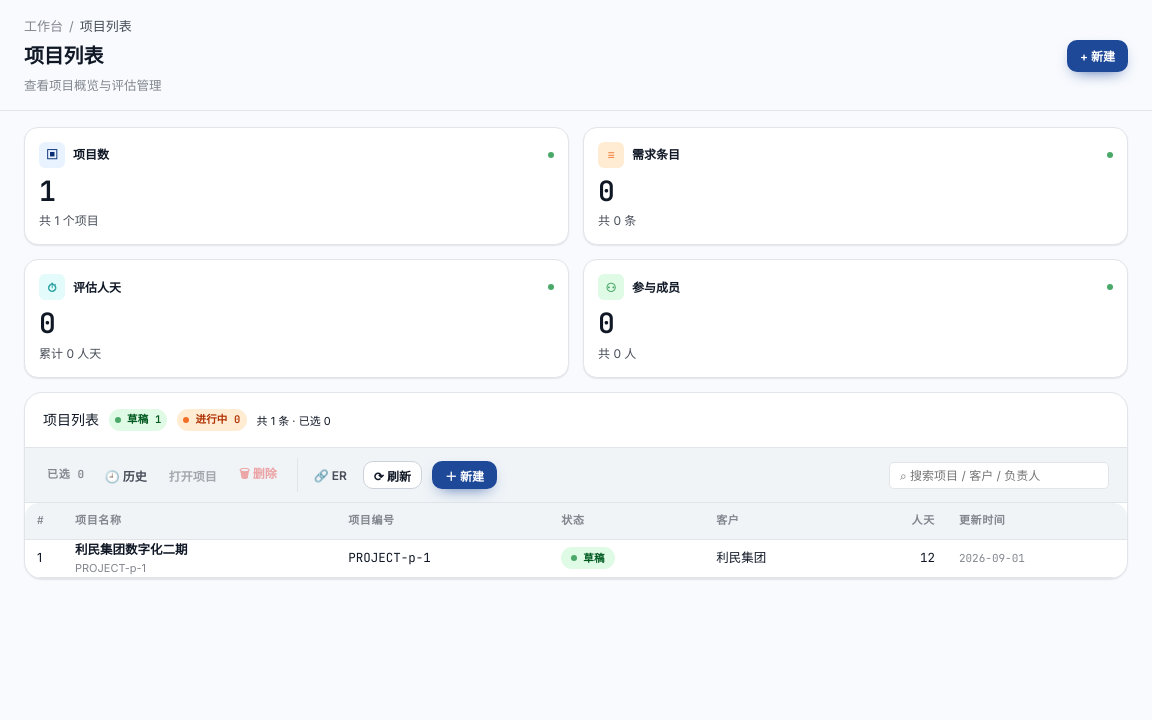
Scenario: /projects 项目列表的加载态与空态 › 有项目但搜索没命中时说「未找到匹配」，不说「还没有项目」
Expected: the text "利民集团数字化二期" is shown, 75,542 -> 188,557
Step 1. Type "不存在的关键字zzz" into the field with placeholder "⌕ 搜索项目 / 客户 / 负责人" → (999, 475), box 889,462 -> 1109,489
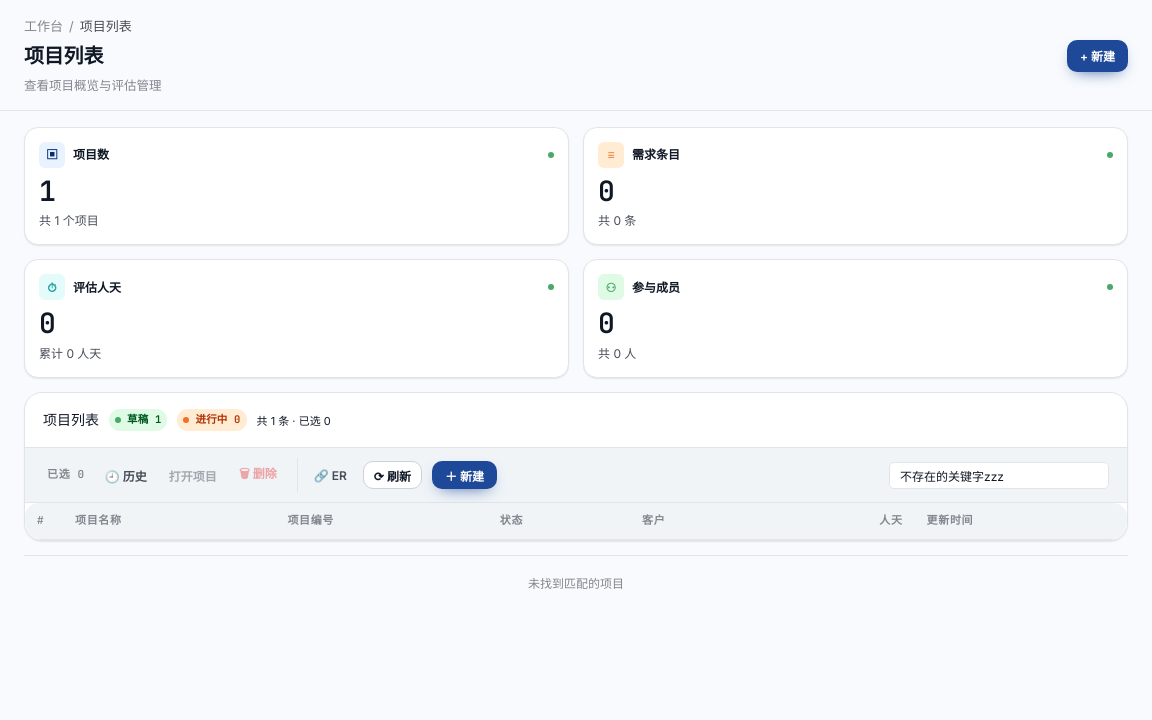
Now the text "未找到匹配的项目" is shown, box 24,555 -> 1128,611
